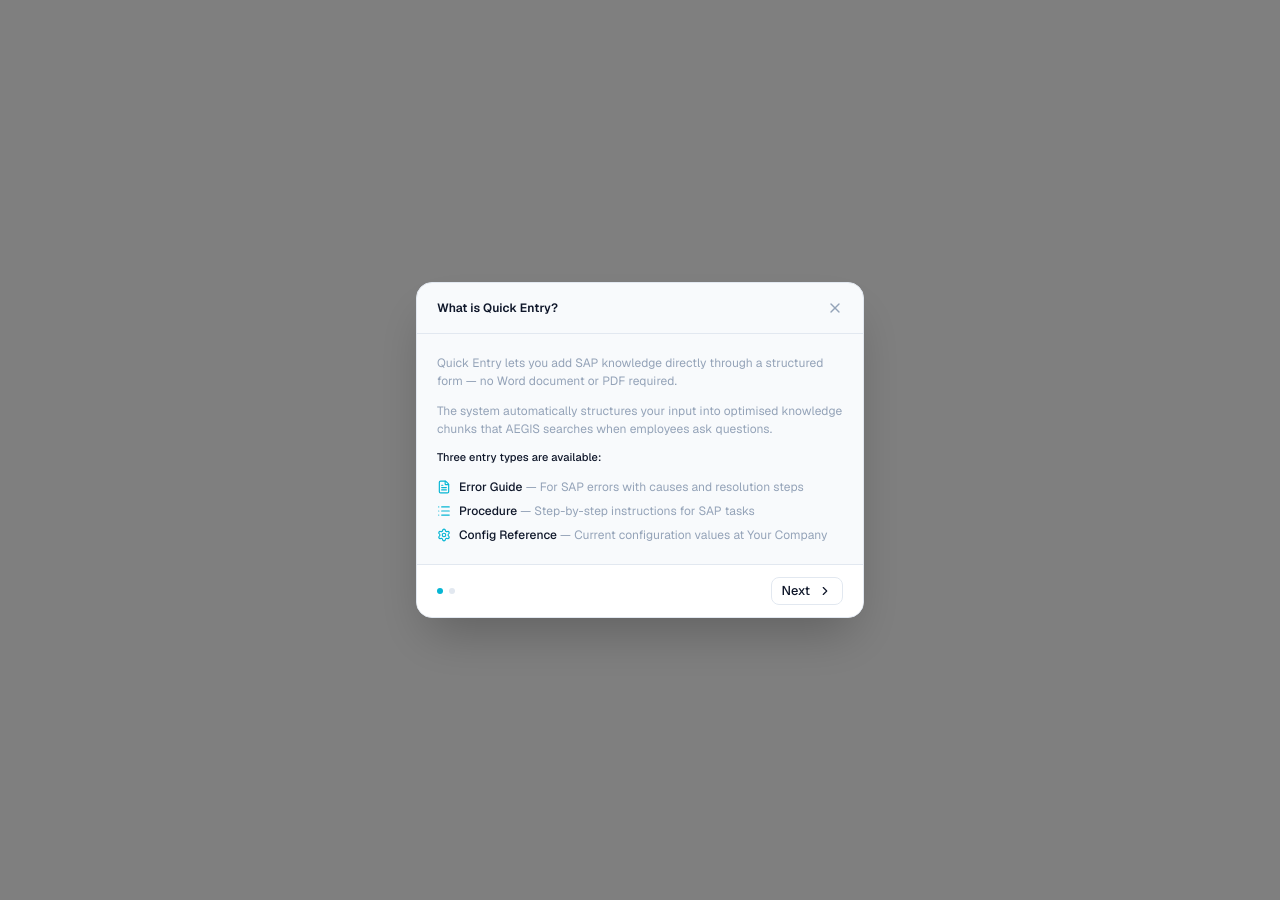
Test: QuickEntryOnboardingModal › advances to the tips step and shows Get started on the last step
Click the button "Next": [807, 591] box 770,577 -> 843,605
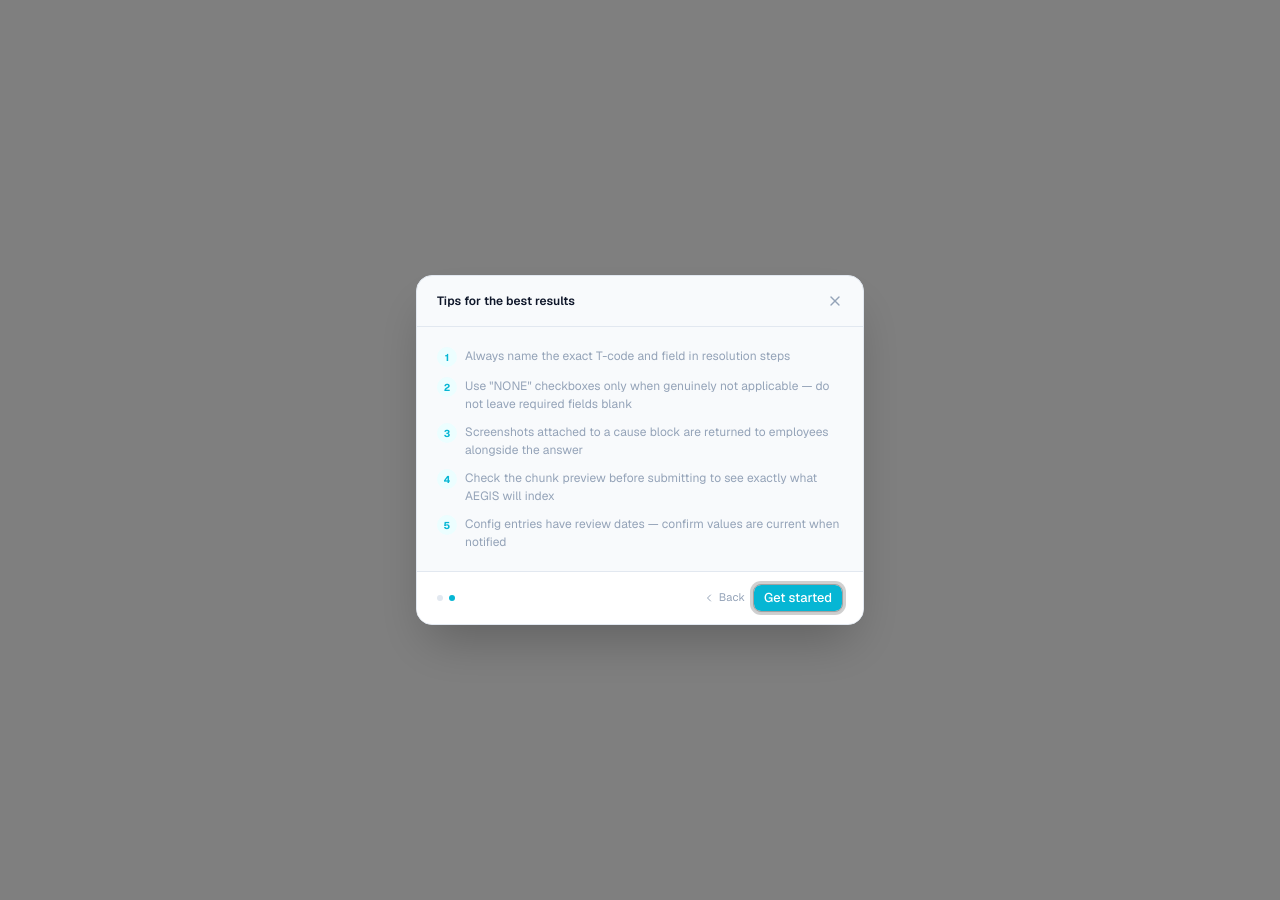
Expected: the text "Tips for the best results" is shown, 437,292 -> 575,310
Expected: the button "Get started" is shown, 753,584 -> 843,612
Expected: the button "Next" is gone
